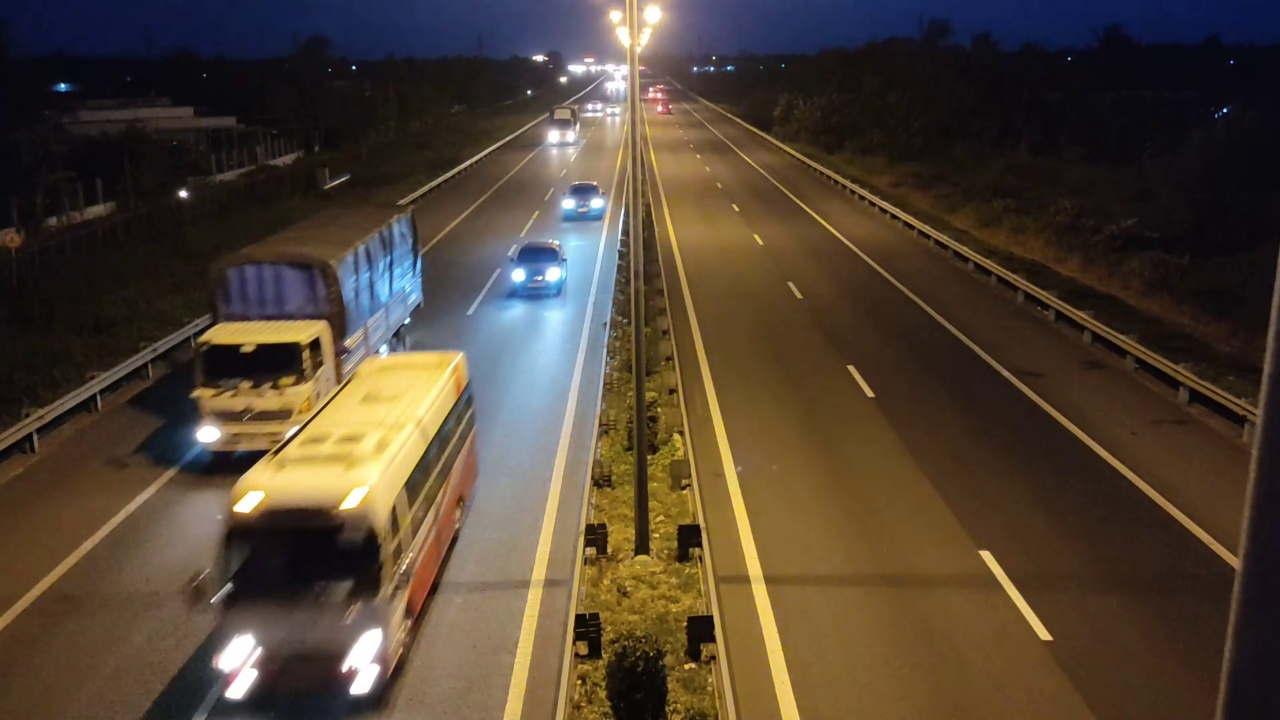bus: (209, 347, 481, 715)
car: (505, 239, 569, 299), (559, 181, 607, 221)
truck: (188, 201, 425, 459)
